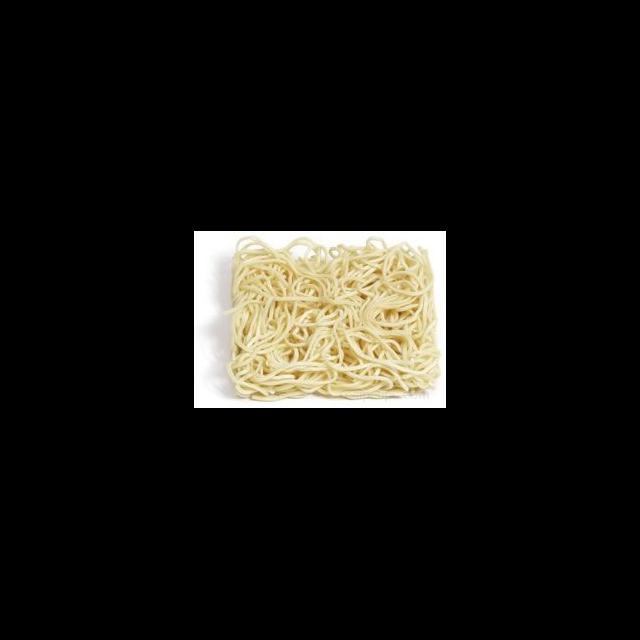noodles: (235, 248, 431, 396)
